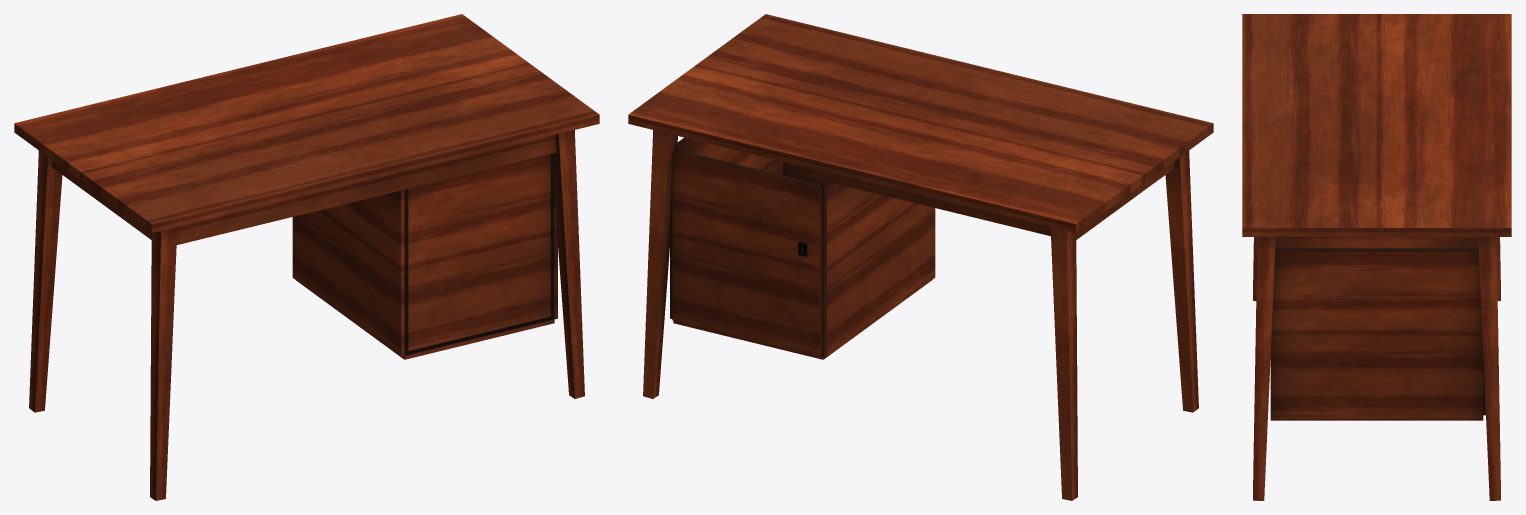
The model's file is desk_legs_web.glb.
The picture shows the model from 3 angles, left to right: view 1: azimuth 30°, elevation 25°; view 2: azimuth 150°, elevation 25°; view 3: azimuth 270°, elevation 25°; orthographic projection. The views are drawn at different scales.
Parts seen in each view (by area): view 1: DeskLegs_Mesh; view 2: DeskLegs_Mesh; view 3: DeskLegs_Mesh.
Part boxes in pixels (x1,y1,x2,y2): DeskLegs_Mesh: (14,14,599,500); DeskLegs_Mesh: (628,14,1213,500); DeskLegs_Mesh: (1242,14,1511,500).
Size of the model in its own units: 1.24 by 0.751 by 0.66.
1 material, 1 textured.
